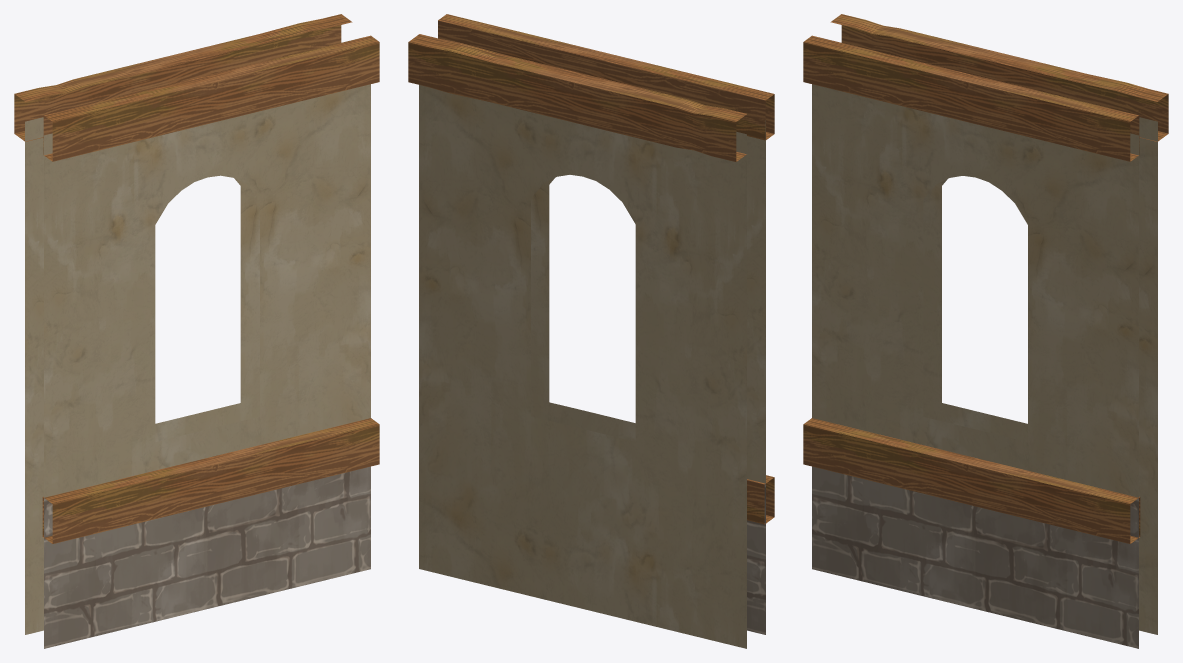
The model's file is Wall_Plaster_Window_Thin_Round.gltf.
3 renders of one model, left to right at view 1: azimuth 30°, elevation 25°; view 2: azimuth 150°, elevation 25°; view 3: azimuth 330°, elevation 25°, orthographic.
Parts seen in each view (by area): view 1: Wall_Plaster_Window_Thin_Round; view 2: Wall_Plaster_Window_Thin_Round; view 3: Wall_Plaster_Window_Thin_Round.
Part boxes in pixels (x1,y1,x2,y2): Wall_Plaster_Window_Thin_Round: (14, 14, 379, 648); Wall_Plaster_Window_Thin_Round: (408, 14, 774, 648); Wall_Plaster_Window_Thin_Round: (803, 14, 1168, 648).
Size of the model in its own units: 2 by 3.12 by 0.4065.
Materials: 3 (3 with a texture image).
